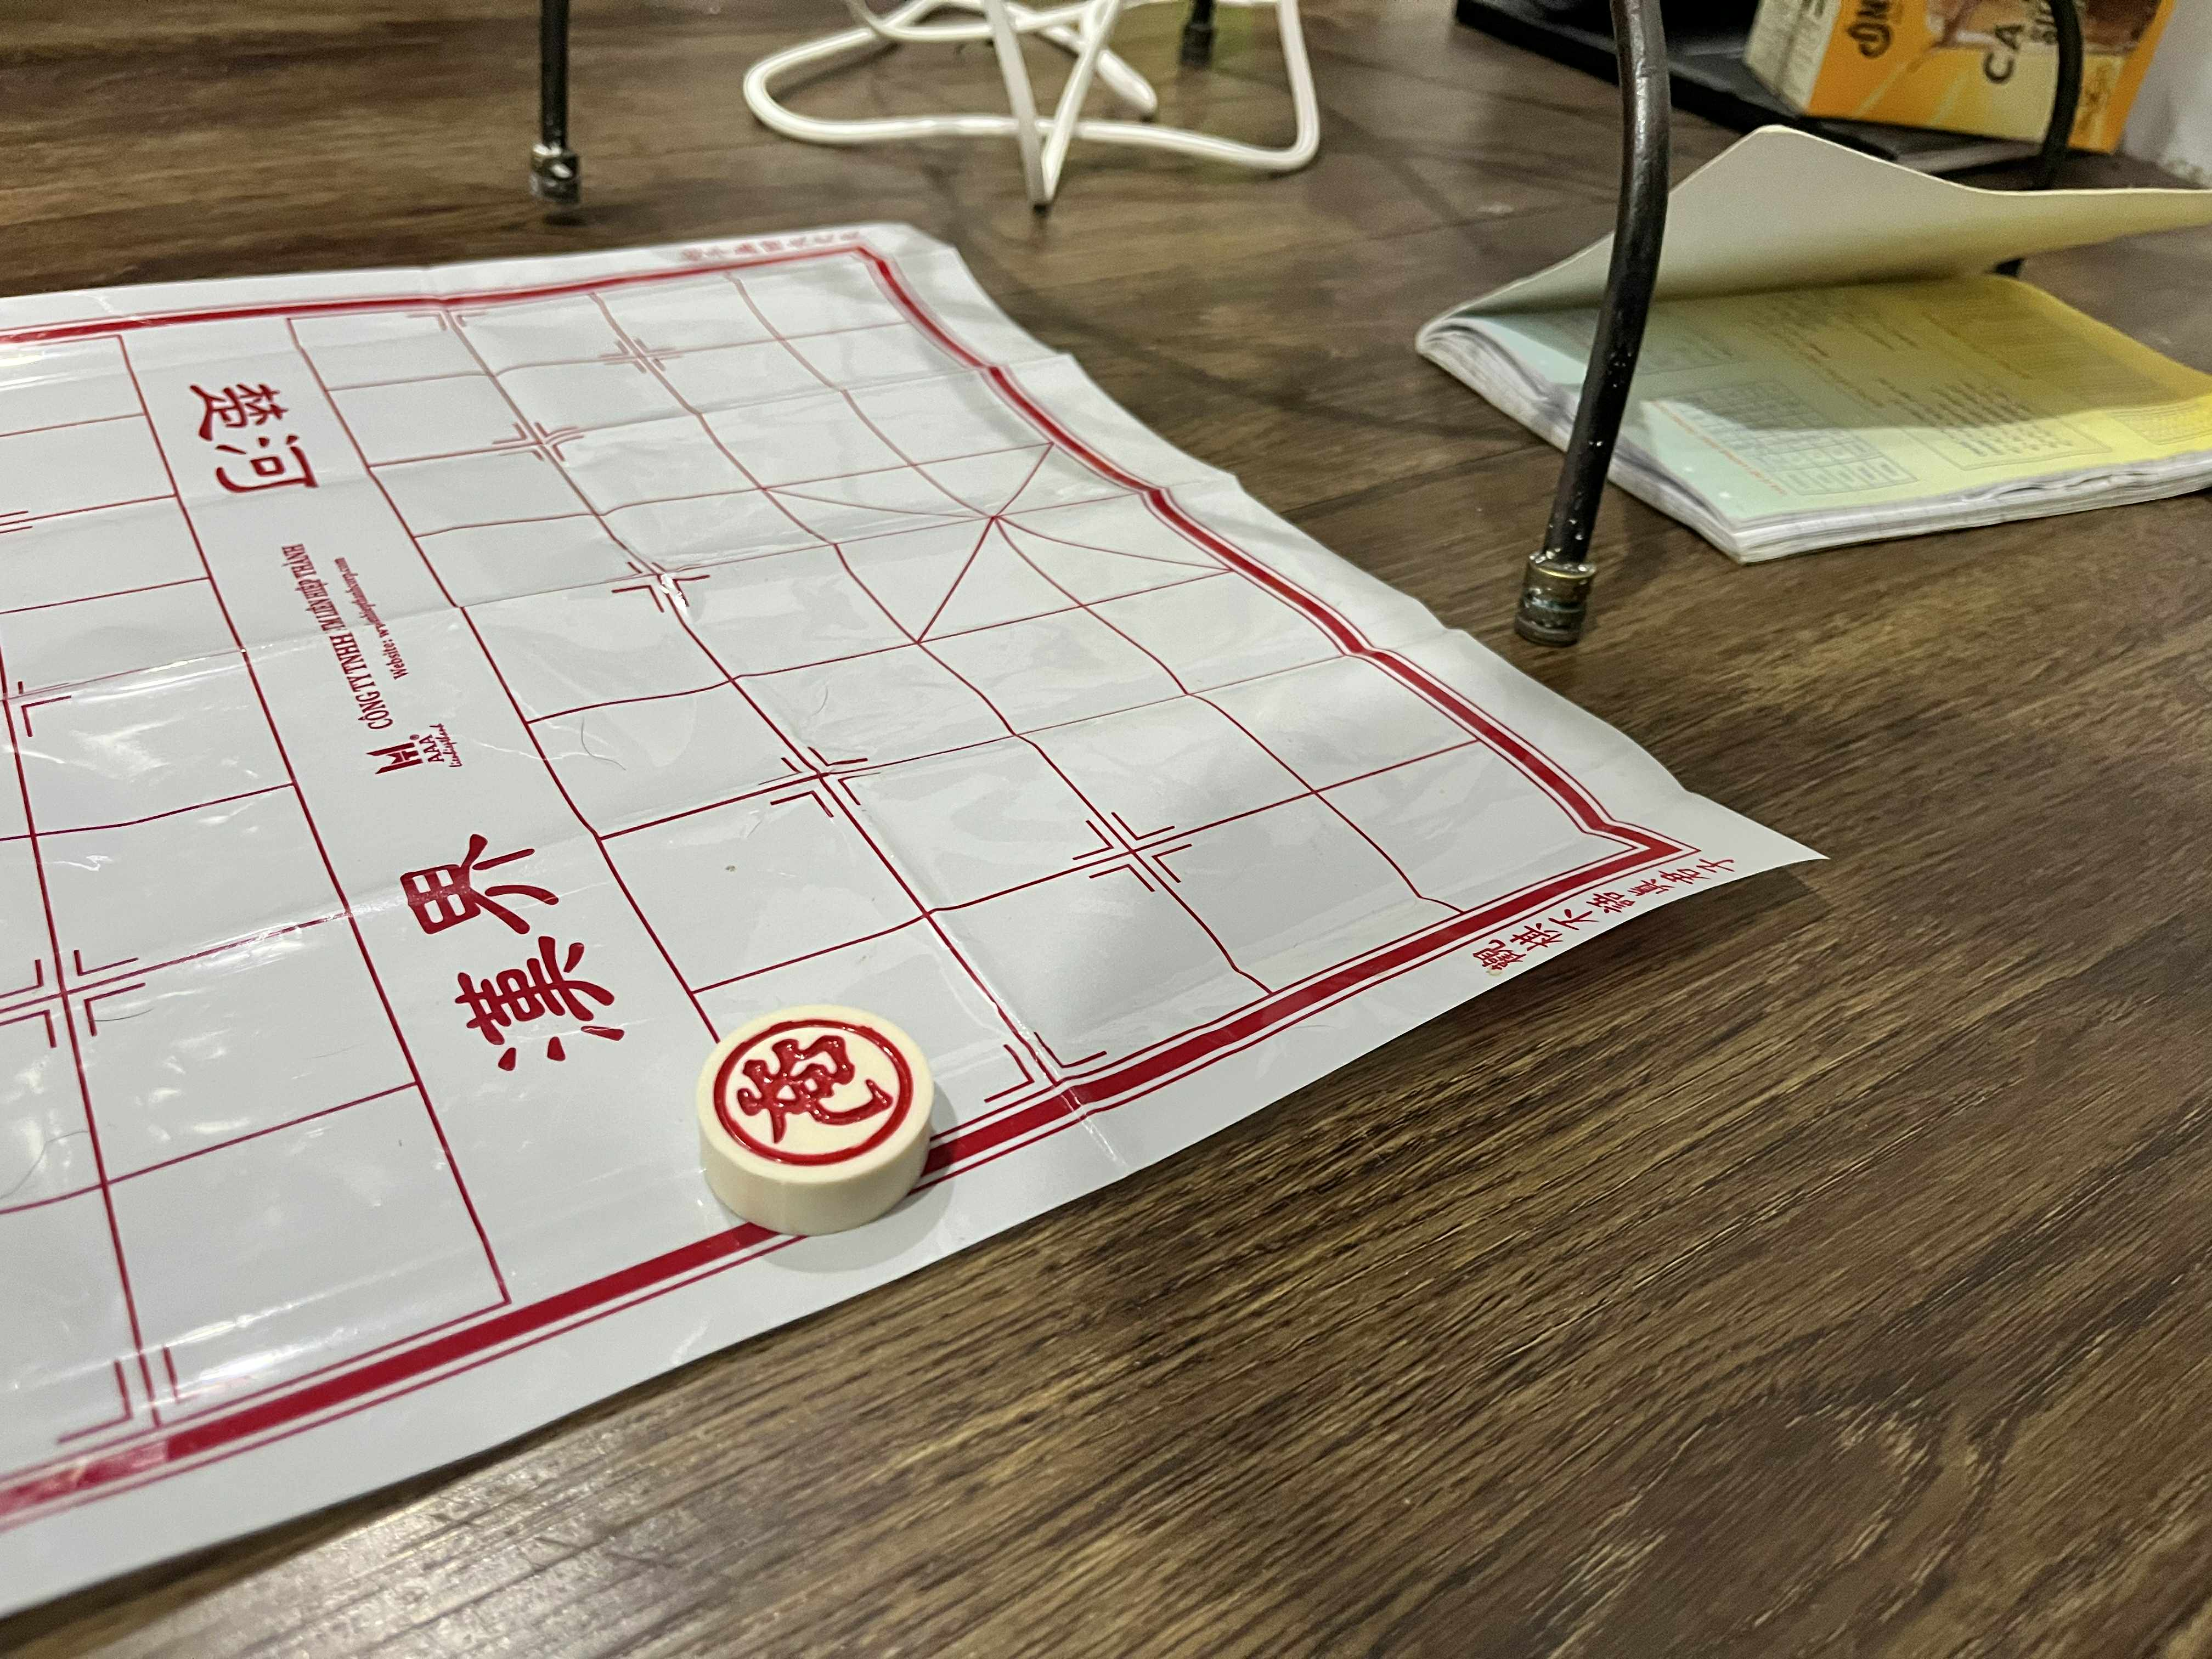red-cannon: (695, 1006, 937, 1183)
